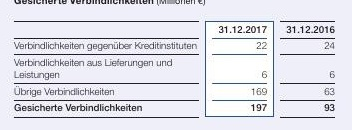table: (0, 0, 352, 130)
